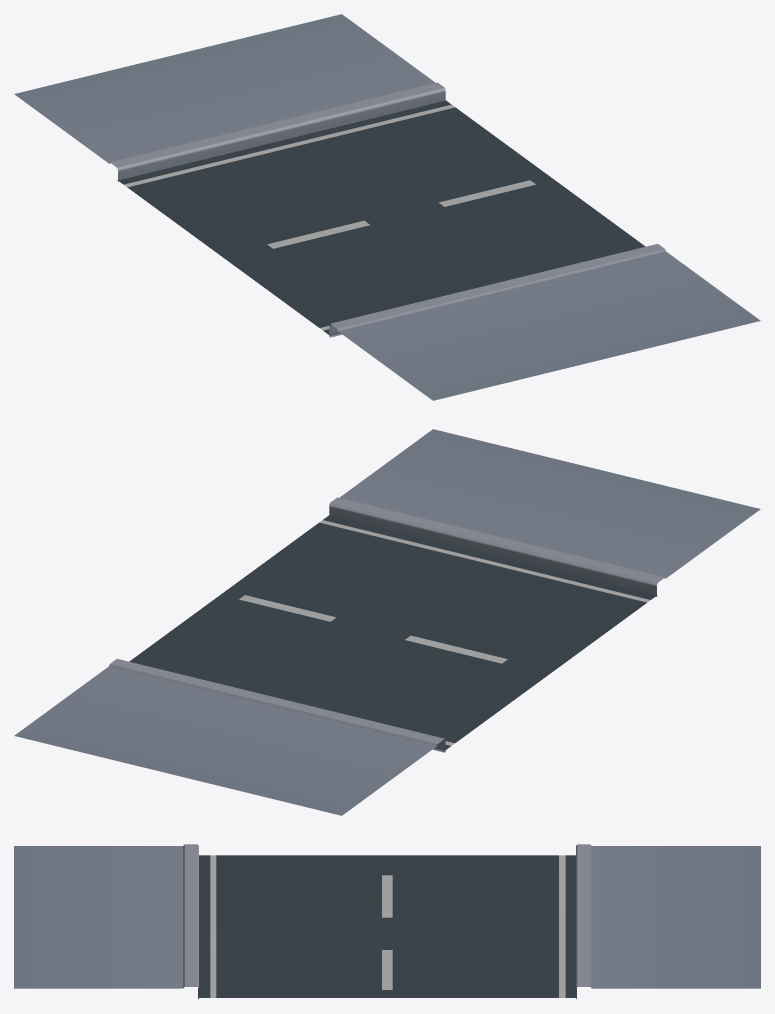
File: Infra_street_mdl.fbx
3 renders of one model, top to bottom at view 1: azimuth 30°, elevation 25°; view 2: azimuth 150°, elevation 25°; view 3: azimuth 270°, elevation 25°, orthographic. The views are drawn at different scales.
Parts seen in each view (by area): view 1: street_sidewalk_geo; view 2: street_sidewalk_geo; view 3: street_sidewalk_geo.
Part boxes in pixels (x1=…): street_sidewalk_geo: x1=14, y1=14, x2=760, y2=400; street_sidewalk_geo: x1=14, y1=429, x2=760, y2=815; street_sidewalk_geo: x1=14, y1=844, x2=760, y2=999.
Bounding box in the file's own units: 800 × 32.99 × 1769.
